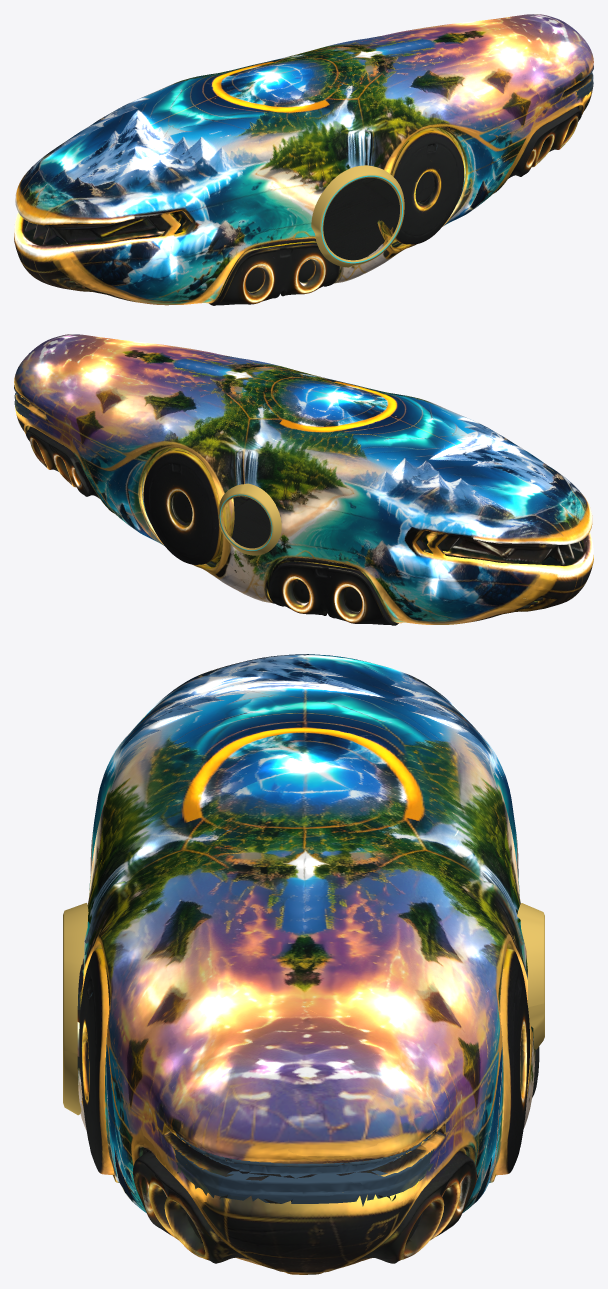
File: starpod_worlds_v5.glb
3 views of the same model, one above another, from view 1: azimuth 30°, elevation 25°; view 2: azimuth 150°, elevation 25°; view 3: azimuth 270°, elevation 25° (orthographic). The views are drawn at different scales.
Bounding box in the file's own units: 1.9 × 0.581 × 0.713.
3 materials, 2 textured.
